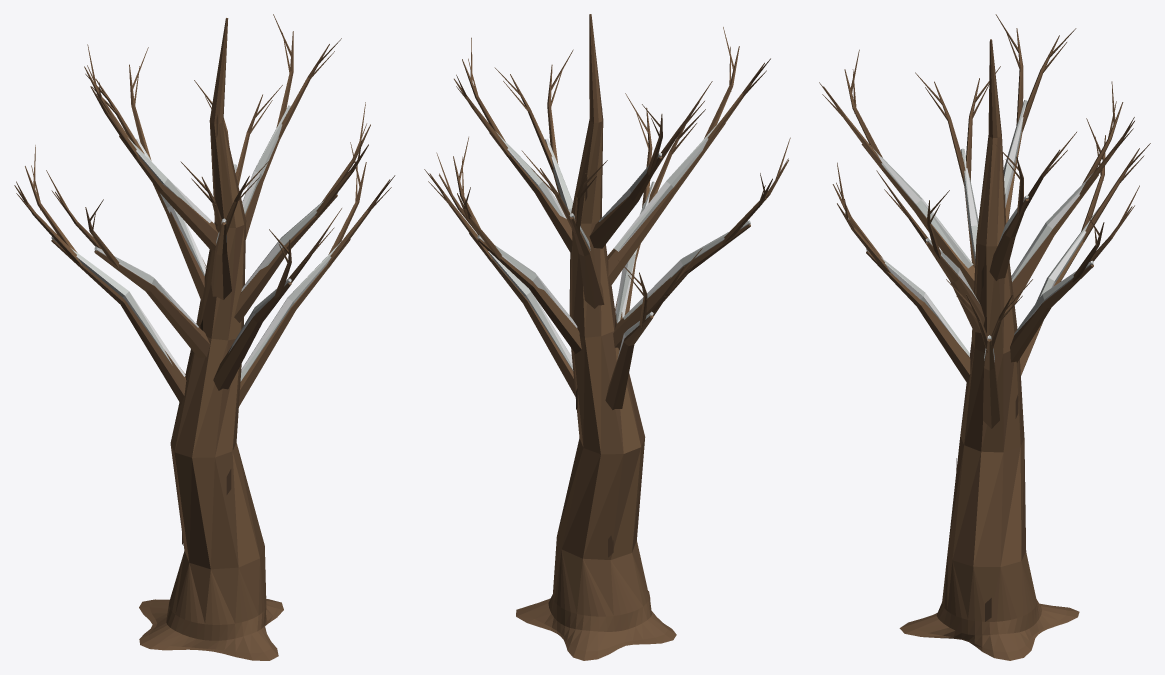
Rendered from oak_winter.glb.
The picture shows the model from 3 angles, left to right: view 1: azimuth 30°, elevation 25°; view 2: azimuth 150°, elevation 25°; view 3: azimuth 270°, elevation 25°; orthographic projection. The views are drawn at different scales.
Parts seen in each view (by area): view 1: branches, snow; view 2: branches, snow; view 3: branches, snow.
Boxes of the visible parts, bbox=[...] form: branches: bbox=[14, 14, 395, 660]; snow: bbox=[51, 105, 341, 381]; branches: bbox=[424, 14, 790, 660]; snow: bbox=[476, 120, 750, 370]; branches: bbox=[819, 14, 1150, 660]; snow: bbox=[866, 100, 1099, 361].
Bounding box in the file's own units: 2.56 × 4.52 × 2.3.
